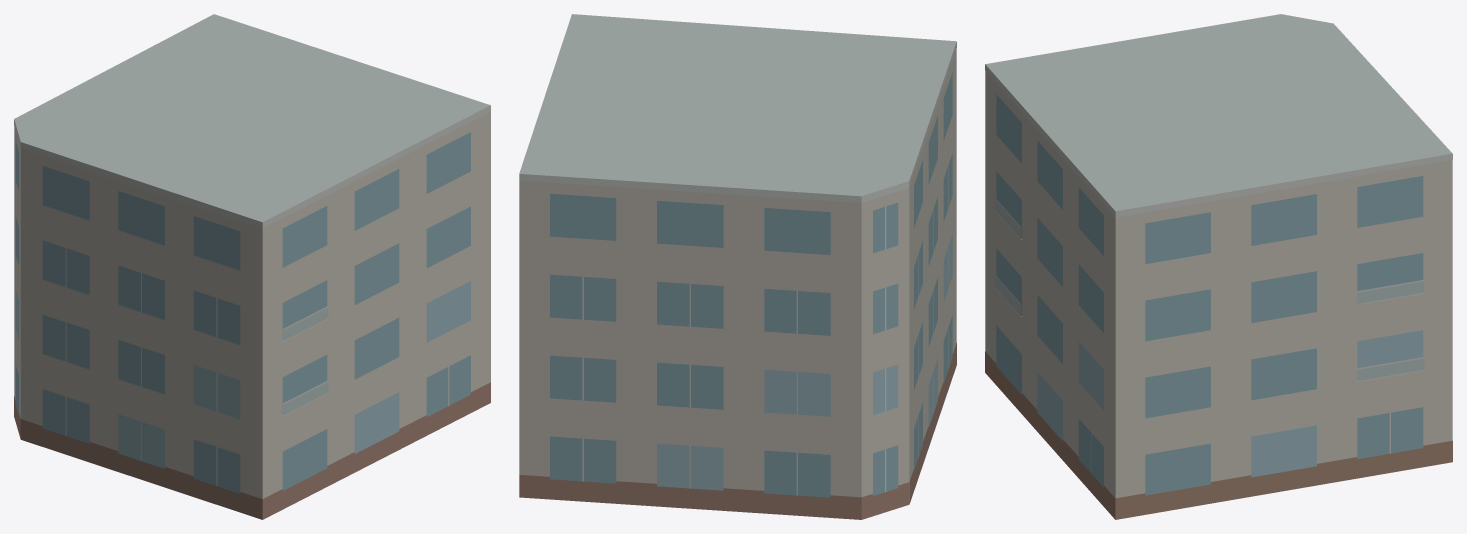
File: survey-upis-32722161.glb
3 views of the same model, side by side, from view 1: azimuth 30°, elevation 25°; view 2: azimuth 150°, elevation 25°; view 3: azimuth 270°, elevation 25° (orthographic). The views are drawn at different scales.
Visible parts, largest first — view 1: survey-upis-32722161.tmp; view 2: survey-upis-32722161.tmp; view 3: survey-upis-32722161.tmp.
Boxes of the visible parts, <box> form: survey-upis-32722161.tmp: <box>14,14,490,519</box>; survey-upis-32722161.tmp: <box>519,14,956,519</box>; survey-upis-32722161.tmp: <box>985,14,1452,519</box>.
Size of the model in its own units: 16.06 by 11.7 by 16.08.
